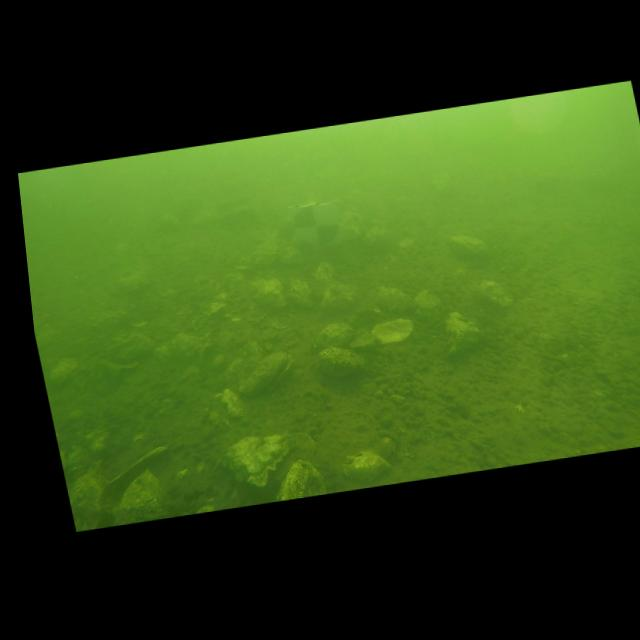Oyster-Closed: (223, 427, 292, 488), (69, 461, 107, 531), (238, 347, 288, 397), (277, 459, 326, 501), (445, 311, 482, 355), (342, 451, 391, 481), (319, 346, 364, 376), (249, 271, 286, 307), (447, 234, 489, 262), (313, 322, 357, 348), (321, 283, 355, 313), (414, 290, 442, 323), (378, 286, 413, 312), (476, 281, 512, 306), (288, 279, 312, 307), (314, 261, 336, 289), (276, 245, 298, 264)
Oyster-Indeterminate: (117, 464, 175, 525), (223, 336, 263, 383), (113, 264, 151, 296)
Oyster-Open: (101, 441, 172, 502), (372, 318, 413, 344)
